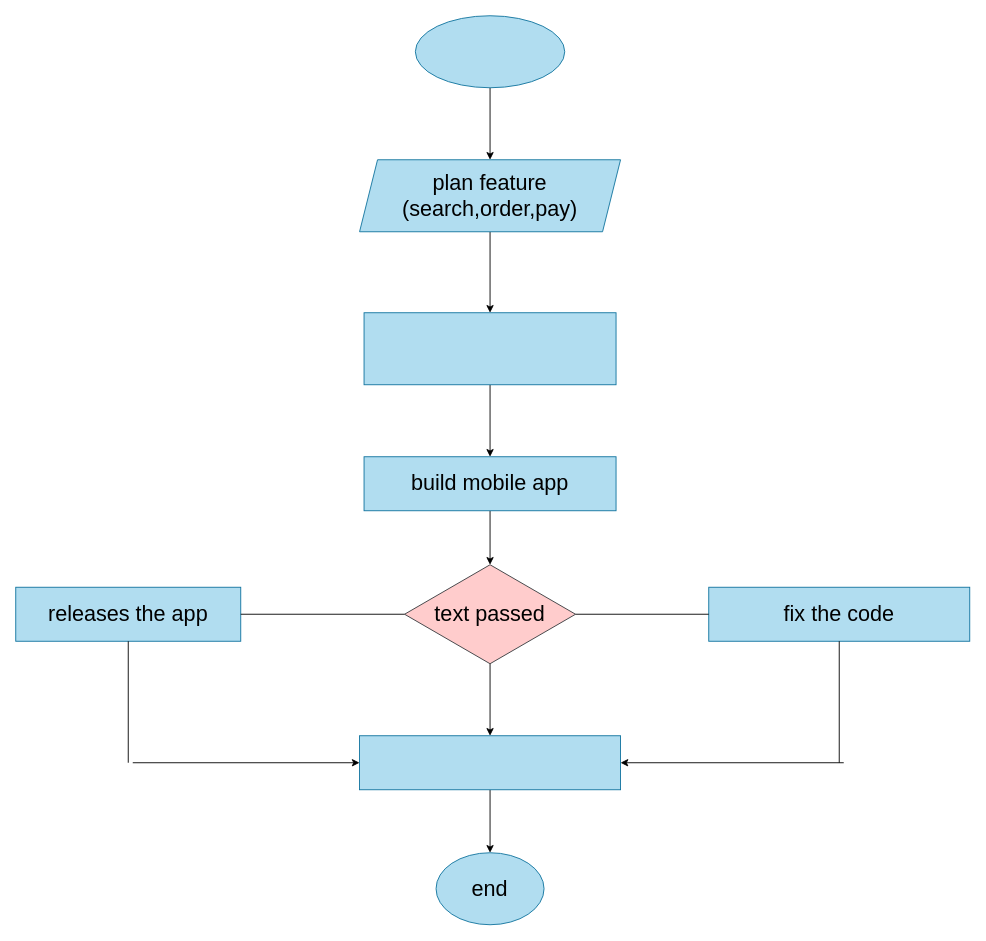
Some shapes in this 986 by 941 pixel diagram are drawn without their labels. Each missing label, with the box of its shape:
code(services:menu, card,orders,delivery): (363, 312, 616, 385)
deploy the app: (359, 735, 621, 790)
start: (414, 15, 565, 88)
